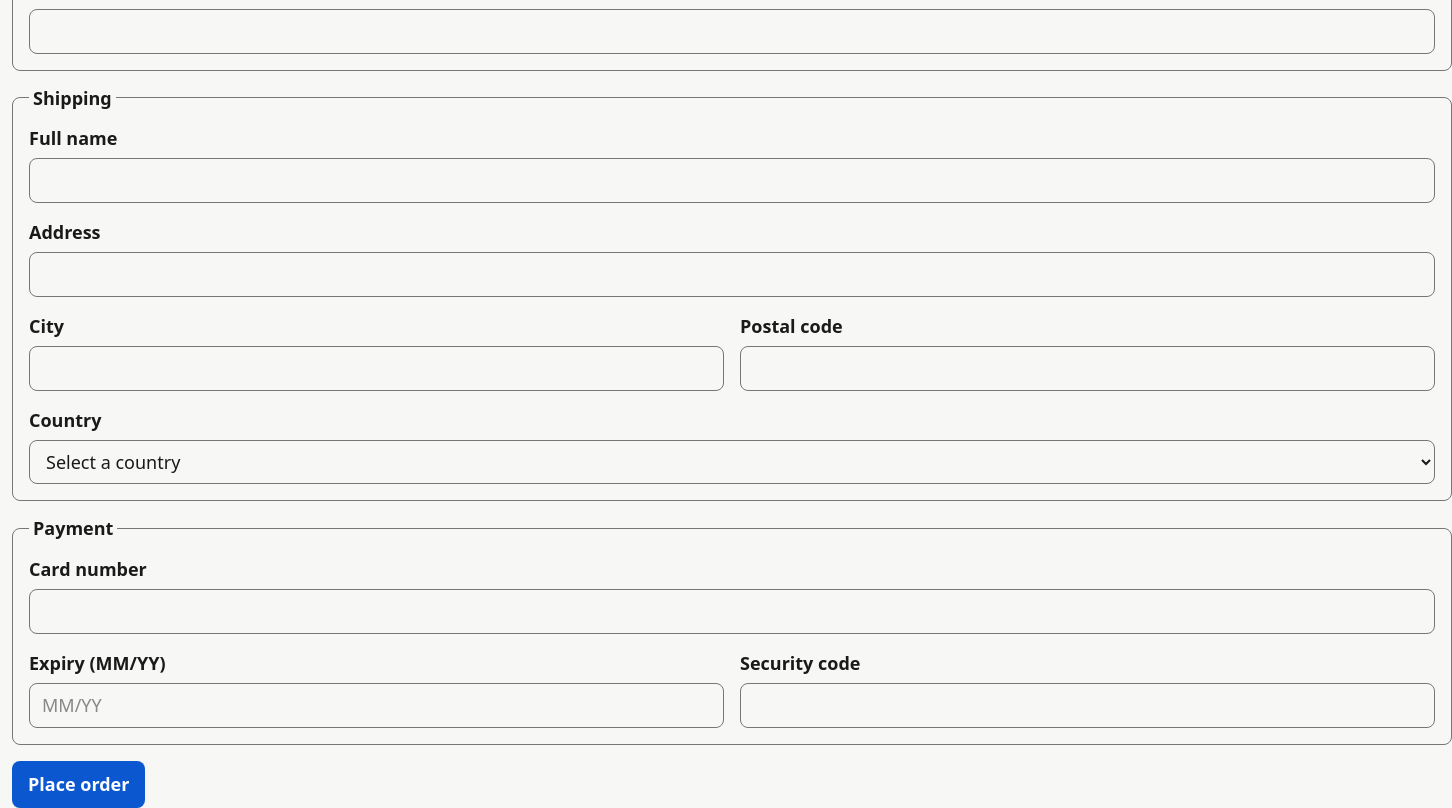
Test case: CheckoutForm › shows errors when submitted empty
(page scrolled)
Click the button "Place order" at [79, 784], box [12,760,145,807]
(page scrolled)
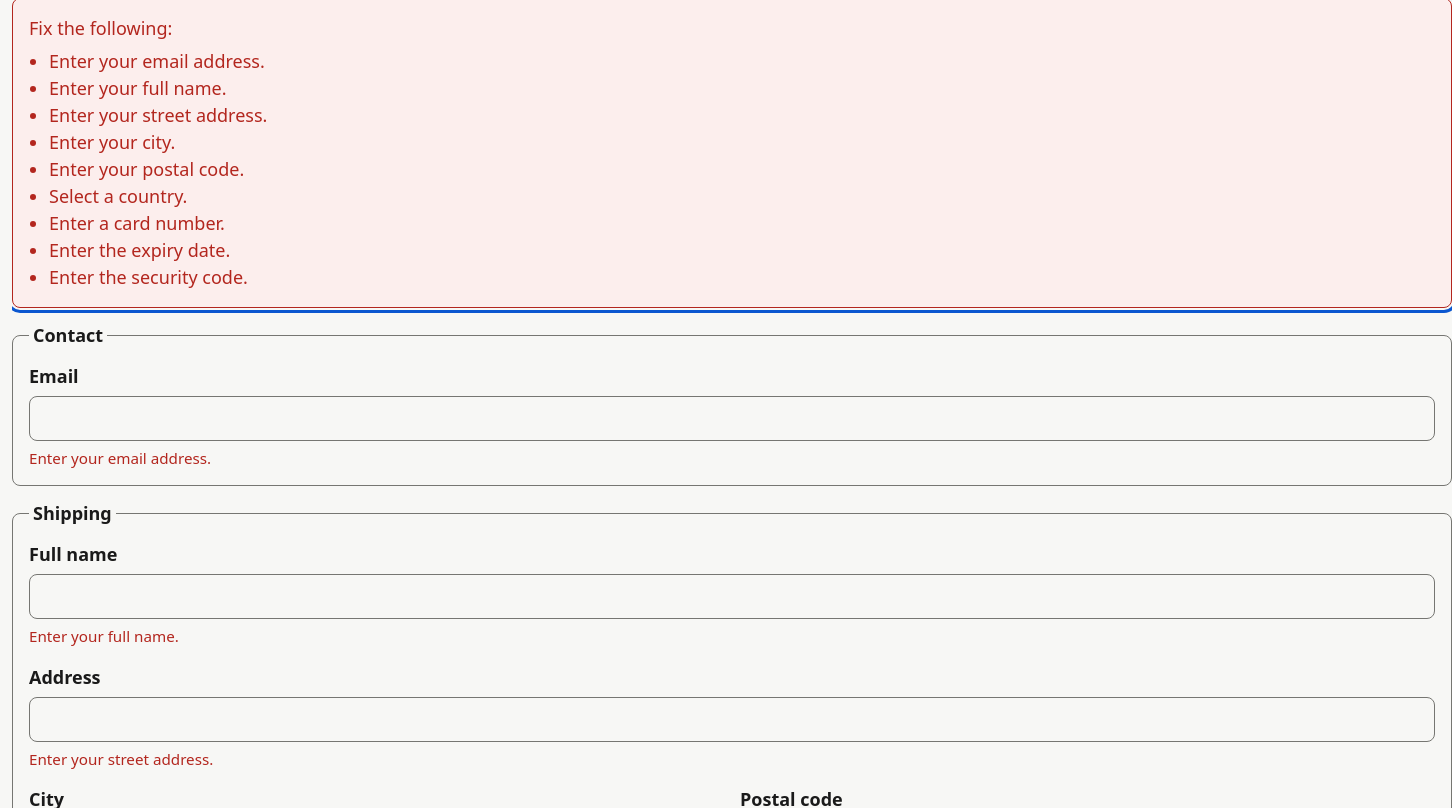
expect the message shows "Enter your email address.": met, box [49,49,265,73]
expect the message shows "Enter your full name.": met, box [49,76,226,100]
expect the message shows "Select a country.": met, box [49,184,187,208]
